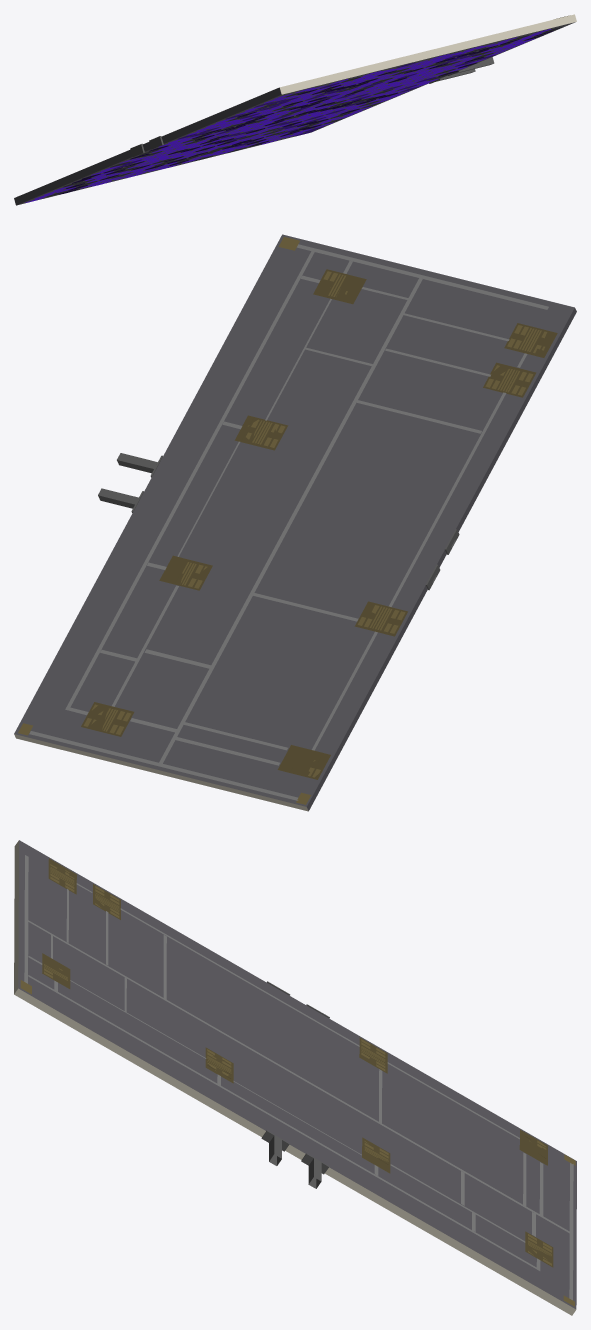
File: Panel_izquierda2.obj
3 views of the same model, one above another, from view 1: azimuth 30°, elevation 25°; view 2: azimuth 150°, elevation 25°; view 3: azimuth 270°, elevation 25° (orthographic). The views are drawn at different scales.
Parts seen in each view (by area): view 1: Panele_izquierdo2_cal_solar_back, Panele_izquierdo2_cal_solar_1, Panele_izquierdo2_cal_solar_2, Panele_izquierdo2_cal_solar_side, Panele_izquierdo2_cal_solar_3, Panele_izquierdo2_cal_solar_6, Panele_izquierdo2_cal_solar_4, Panele_izquierdo2_cal_solar_5, Panele_izquierdo2_cal_solar_7, Panele_izquierdo2_cal_grey; view 2: Panele_izquierdo2_cal_solar_back, Panele_izquierdo2_cal_silver, Panele_izquierdo2_cal_brown, Panele_izquierdo2_cal_bronze, Panele_izquierdo2_cal_grey, Panele_izquierdo2_cal_solar_side; view 3: Panele_izquierdo2_cal_solar_back, Panele_izquierdo2_cal_silver, Panele_izquierdo2_cal_solar_side, Panele_izquierdo2_cal_brown, Panele_izquierdo2_cal_bronze, Panele_izquierdo2_cal_grey.
Boxes of the visible parts, x1=… form: Panele_izquierdo2_cal_solar_back: x1=14, y1=22, x2=575, y2=205; Panele_izquierdo2_cal_solar_1: x1=44, y1=29, x2=551, y2=195; Panele_izquierdo2_cal_solar_2: x1=25, y1=42, x2=524, y2=202; Panele_izquierdo2_cal_solar_side: x1=279, y1=14, x2=576, y2=94; Panele_izquierdo2_cal_solar_3: x1=34, y1=33, x2=541, y2=199; Panele_izquierdo2_cal_solar_6: x1=47, y1=26, x2=562, y2=196; Panele_izquierdo2_cal_solar_4: x1=113, y1=53, x2=496, y2=169; Panele_izquierdo2_cal_solar_5: x1=59, y1=30, x2=553, y2=194; Panele_izquierdo2_cal_solar_7: x1=68, y1=39, x2=519, y2=190; Panele_izquierdo2_cal_grey: x1=130, y1=57, x2=494, y2=157; Panele_izquierdo2_cal_solar_back: x1=14, y1=234, x2=576, y2=810; Panele_izquierdo2_cal_silver: x1=29, y1=244, x2=548, y2=800; Panele_izquierdo2_cal_brown: x1=81, y1=269, x2=557, y2=779; Panele_izquierdo2_cal_bronze: x1=18, y1=237, x2=547, y2=804; Panele_izquierdo2_cal_grey: x1=98, y1=453, x2=459, y2=590; Panele_izquierdo2_cal_solar_side: x1=14, y1=734, x2=308, y2=811; Panele_izquierdo2_cal_solar_back: x1=18, y1=840, x2=576, y2=1308; Panele_izquierdo2_cal_silver: x1=24, y1=855, x2=573, y2=1300; Panele_izquierdo2_cal_solar_side: x1=14, y1=840, x2=576, y2=1315; Panele_izquierdo2_cal_brown: x1=42, y1=858, x2=553, y2=1267; Panele_izquierdo2_cal_bronze: x1=20, y1=864, x2=575, y2=1306; Panele_izquierdo2_cal_grey: x1=261, y1=981, x2=329, y2=1188.
Bounding box in the file's own units: 9.1 × 8.16 × 12.7.
